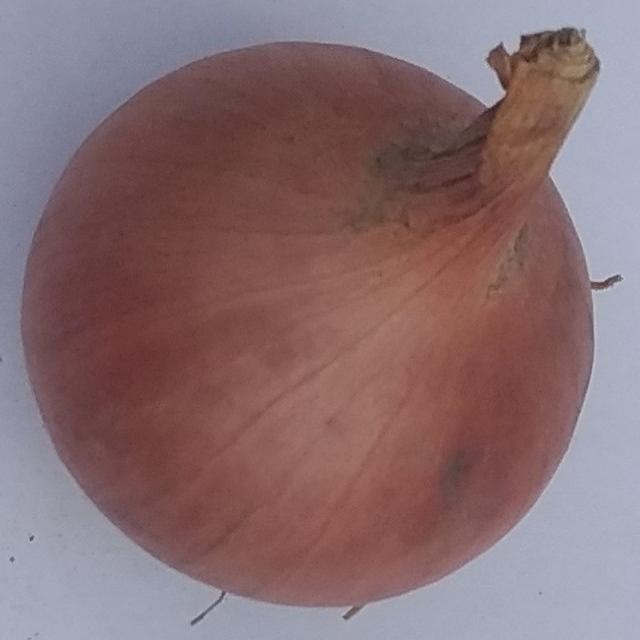onion: (19, 25, 625, 627)
